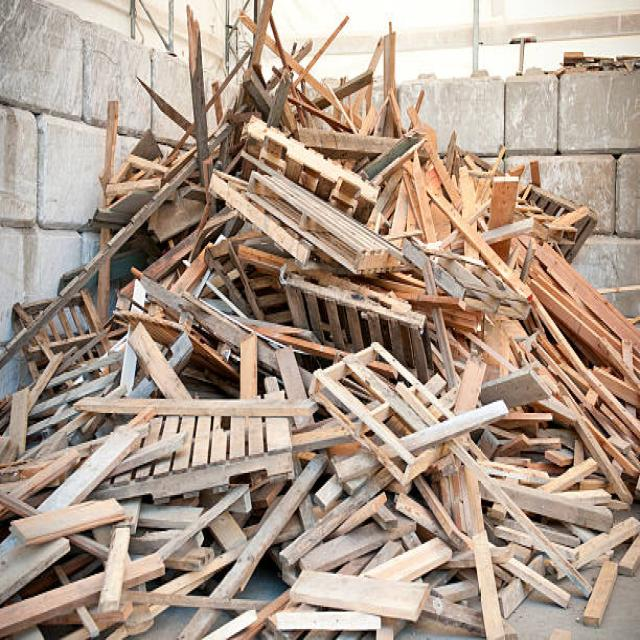trash: (24, 38, 617, 585)
